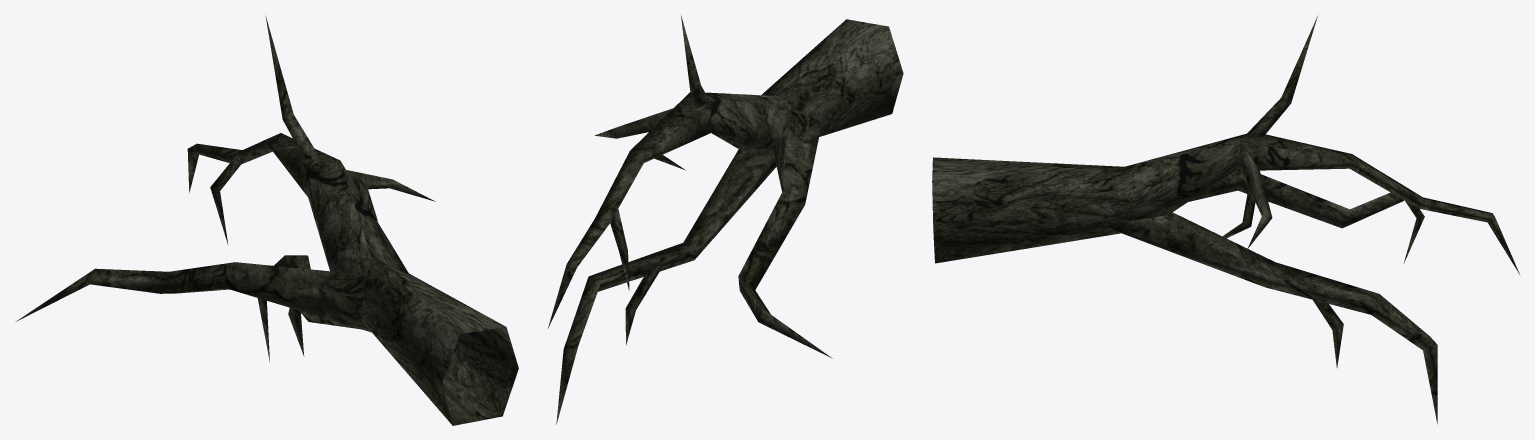
File: MEP_DeadTree_02.fbx
3 renders of one model, left to right at view 1: azimuth 30°, elevation 25°; view 2: azimuth 150°, elevation 25°; view 3: azimuth 270°, elevation 25°, orthographic. The views are drawn at different scales.
Parts seen in each view (by area): view 1: MEP_DeadTree_02; view 2: MEP_DeadTree_02; view 3: MEP_DeadTree_02.
Boxes of the visible parts, x1,y1,x2,y2 form: MEP_DeadTree_02: (16, 16, 518, 425); MEP_DeadTree_02: (548, 15, 903, 424); MEP_DeadTree_02: (932, 16, 1520, 424).
Bounding box in the file's own units: 4.55 × 5.29 × 7.41.
Materials: 1 (1 with a texture image).
